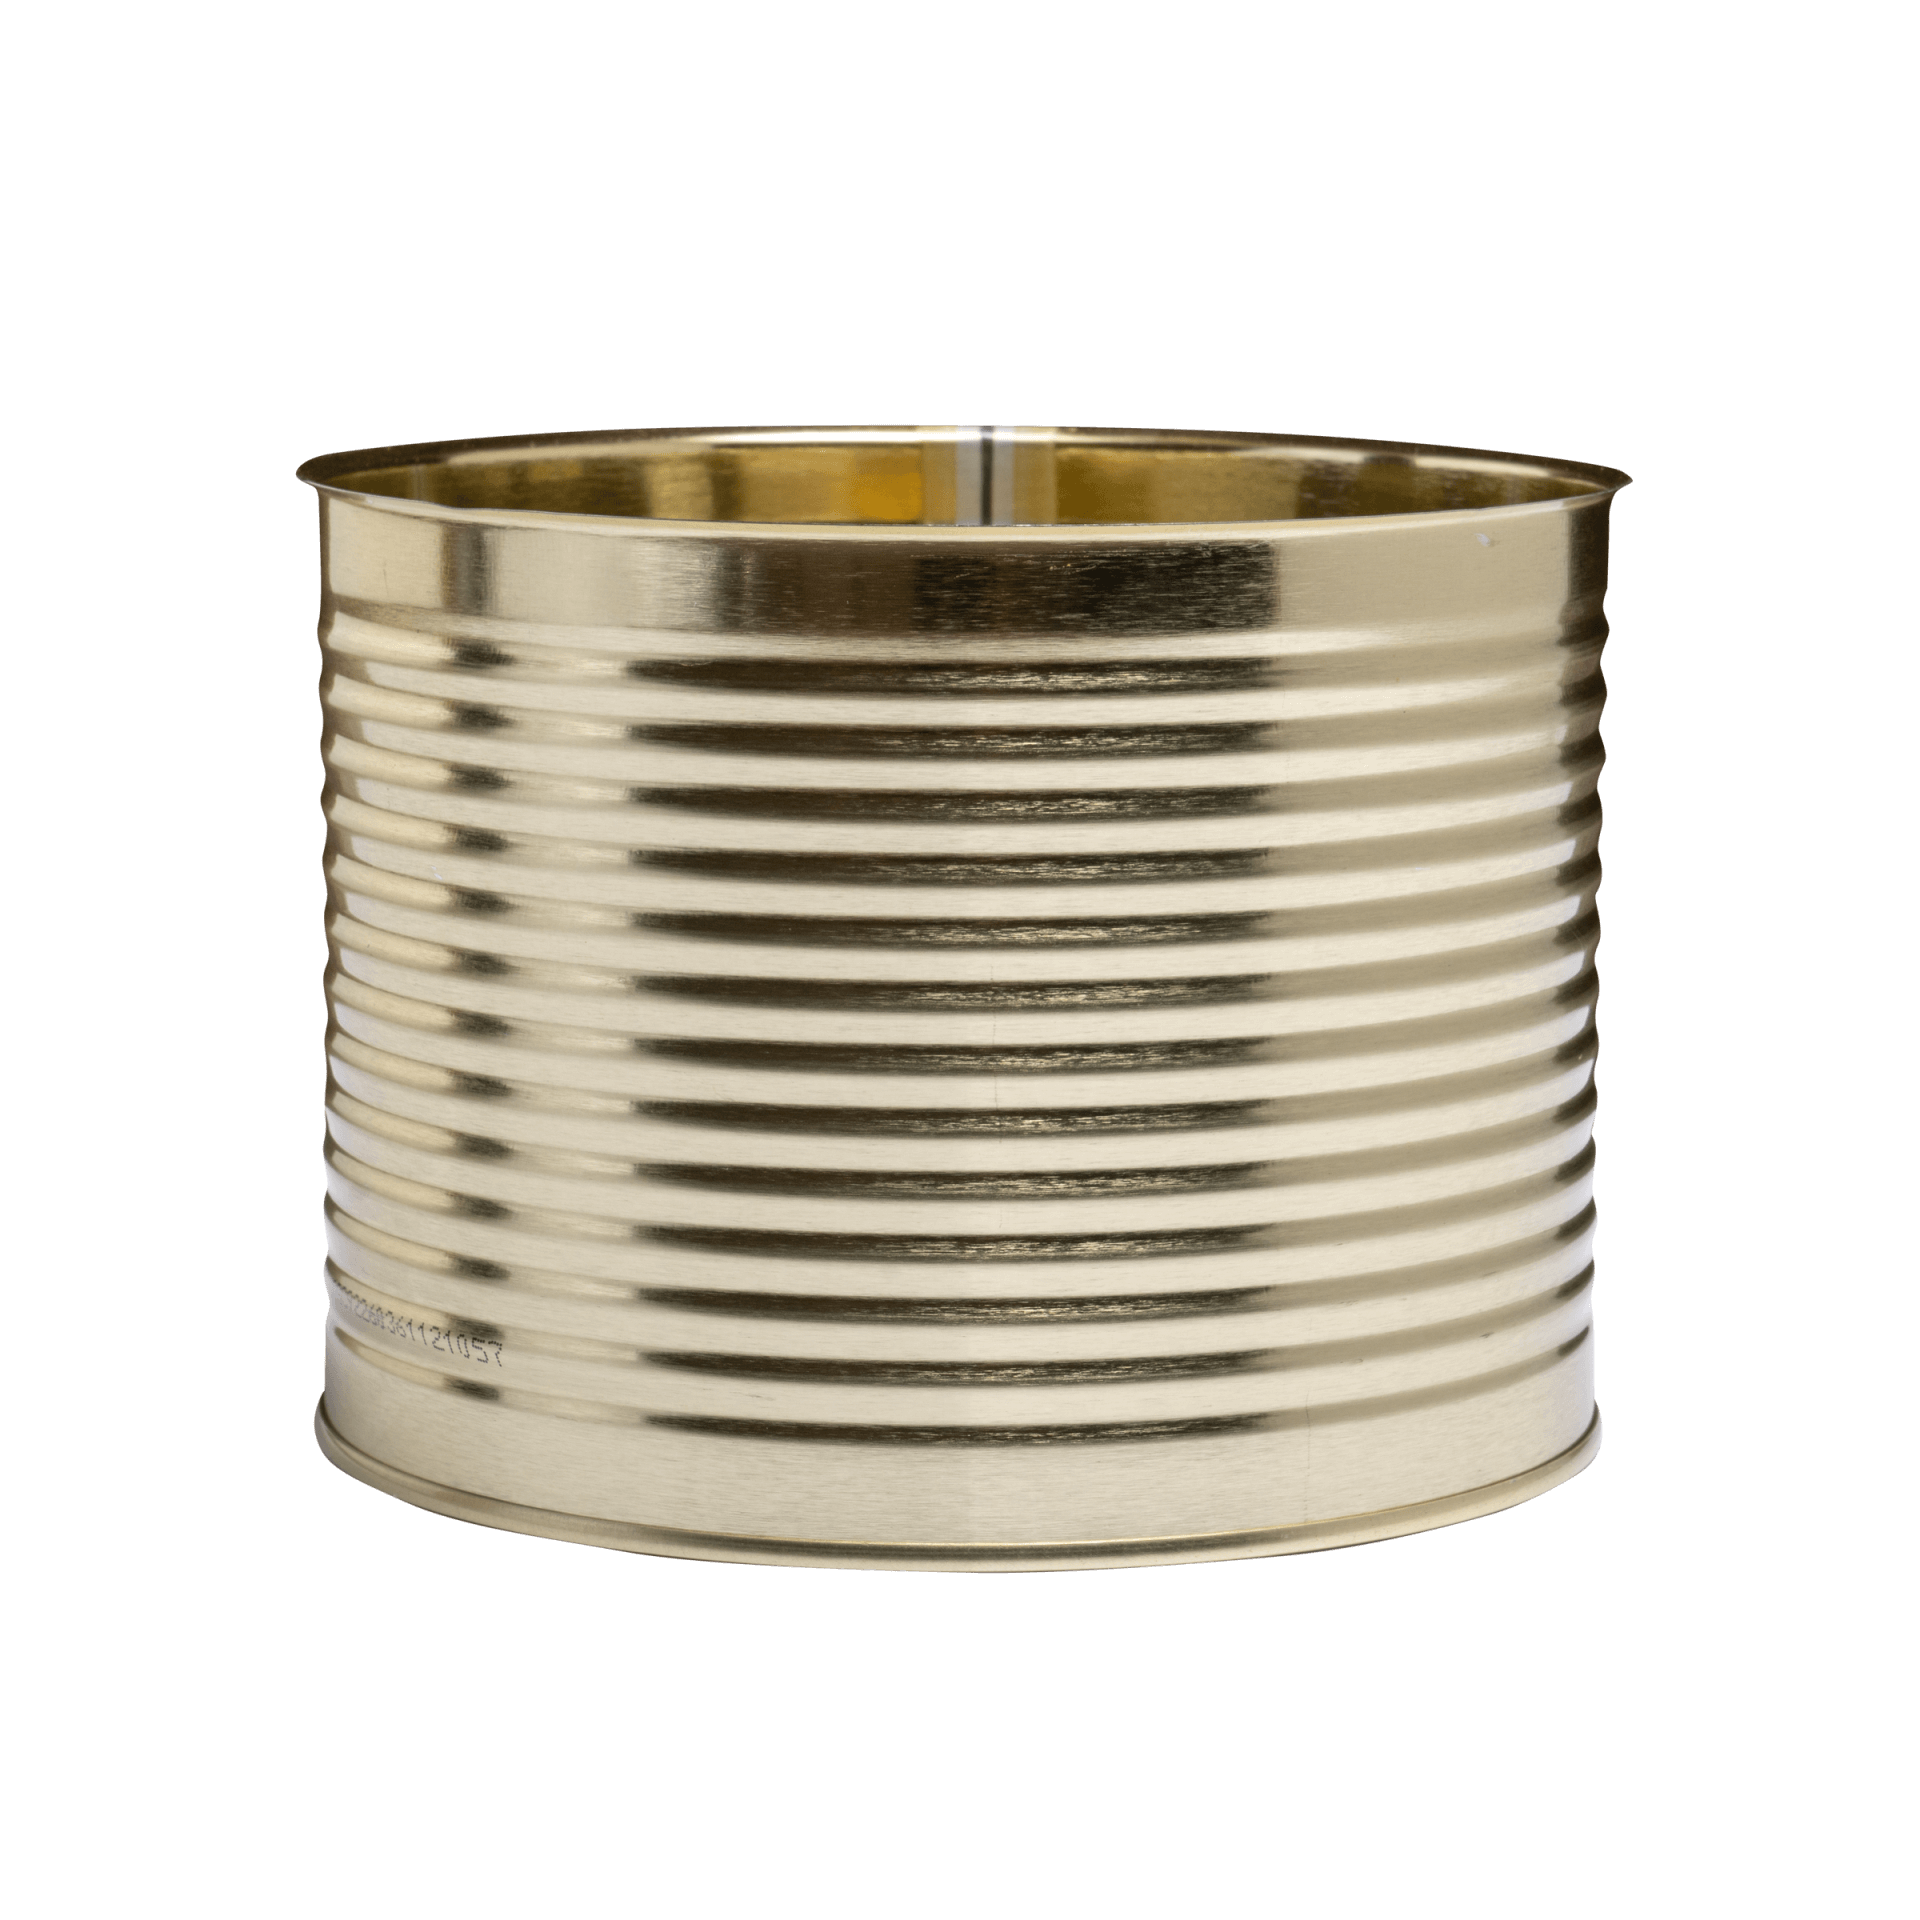can: (258, 397, 1686, 1561)
